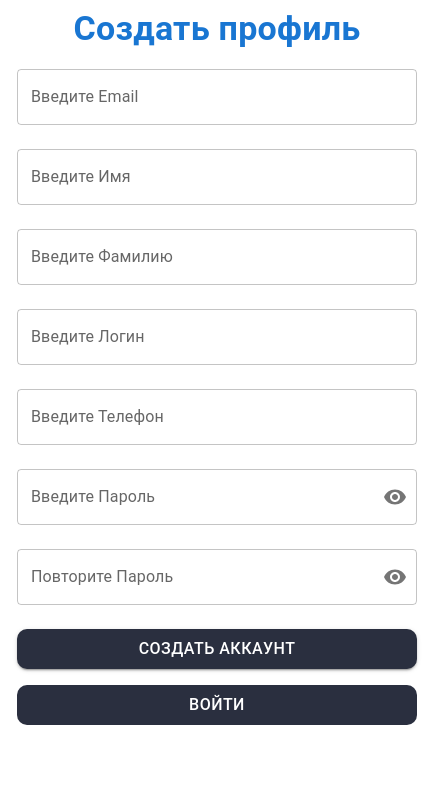
Scenario: SignUp tests › SignUp validation is work
Type "Admin" into the field labelled "Введите Email" at (217, 97), box [17,69,417,125]
Type "145623" into the field labelled "Введите Имя" at (217, 177), box [17,149,417,205]
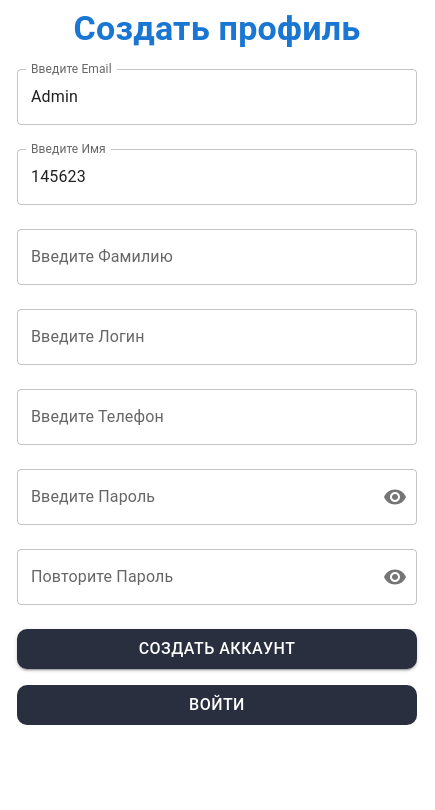
Type "1234566" into the field labelled "Введите Фамилию" at (217, 257), box [17,229,417,285]
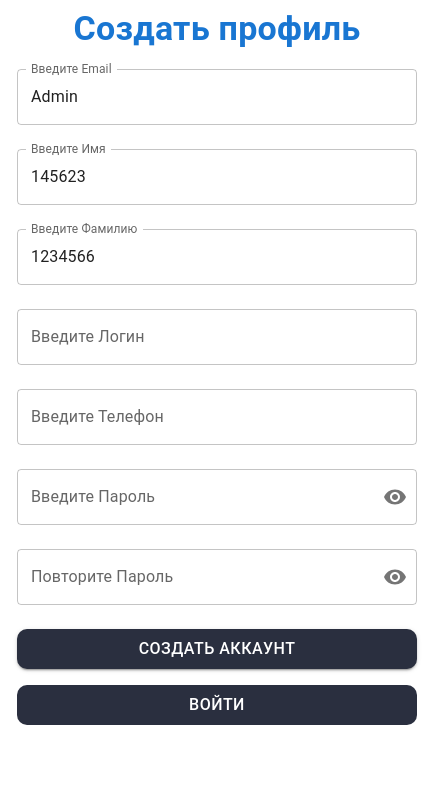
Type "12345" into the field labelled "Введите Логин" at (217, 337), box [17,309,417,365]
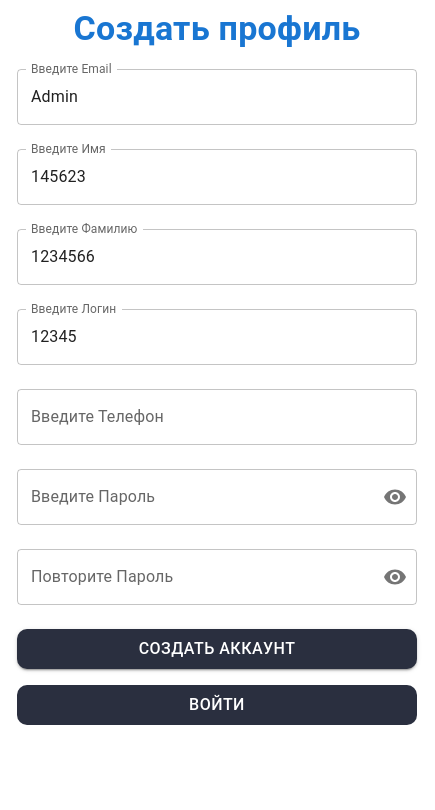
Type "gcggkhih;j" into the field labelled "Введите Телефон" at (217, 417), box [17,389,417,445]
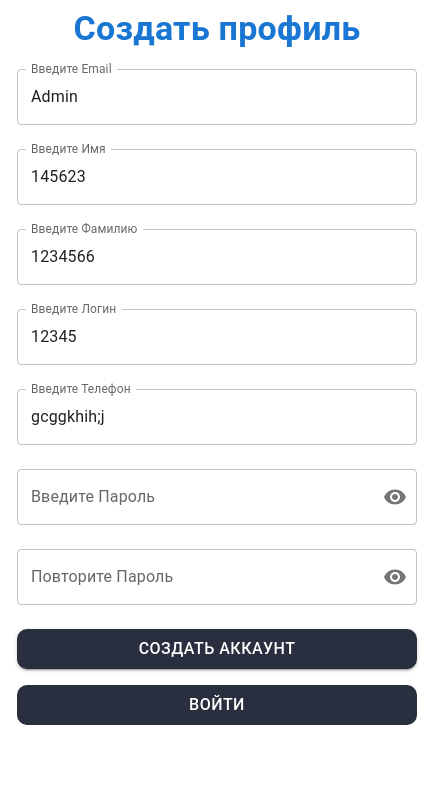
Type "123456" into the password field labelled "Введите Пароль" at (196, 497), box [17,469,375,525]
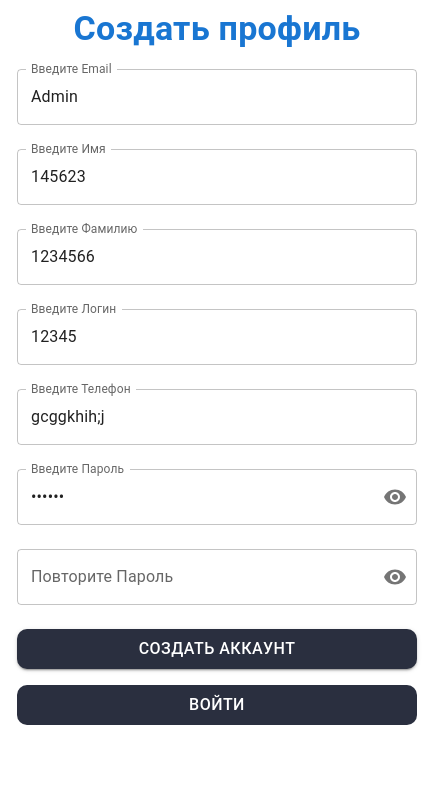
Type "1234567AS" into the password field labelled "Повторите Пароль" at (196, 577), box [17,549,375,605]
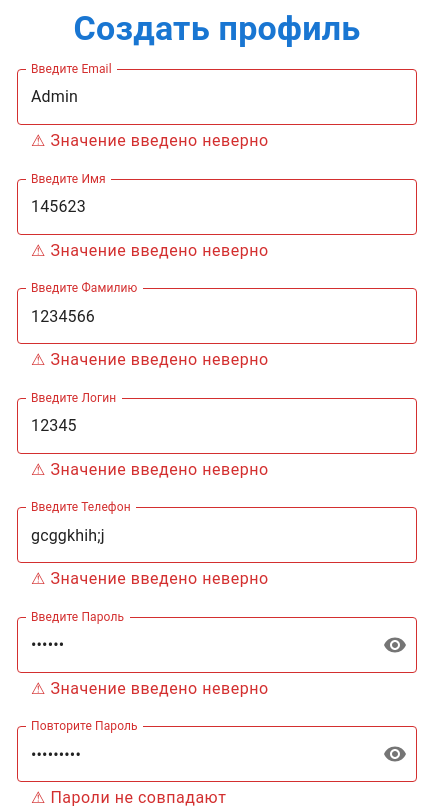
Expected: the text "⚠ Значение введено неверно" is shown 6 times, [31,131,269,150]; [31,240,269,260]; [31,350,269,369]; [31,460,269,479]; [31,569,269,588]; [31,679,269,698]
Expected: the text "⚠ Пароли не совпадают" is shown once, [31,788,226,807]
